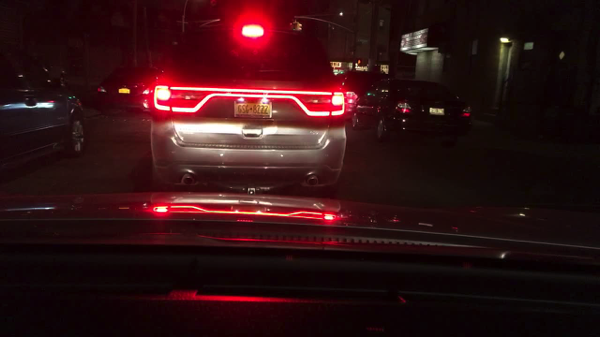car: (148, 22, 349, 196), (0, 41, 86, 163), (351, 79, 474, 148), (94, 65, 159, 113), (337, 69, 388, 121)
traffic light: (357, 58, 367, 66), (296, 22, 303, 30)
